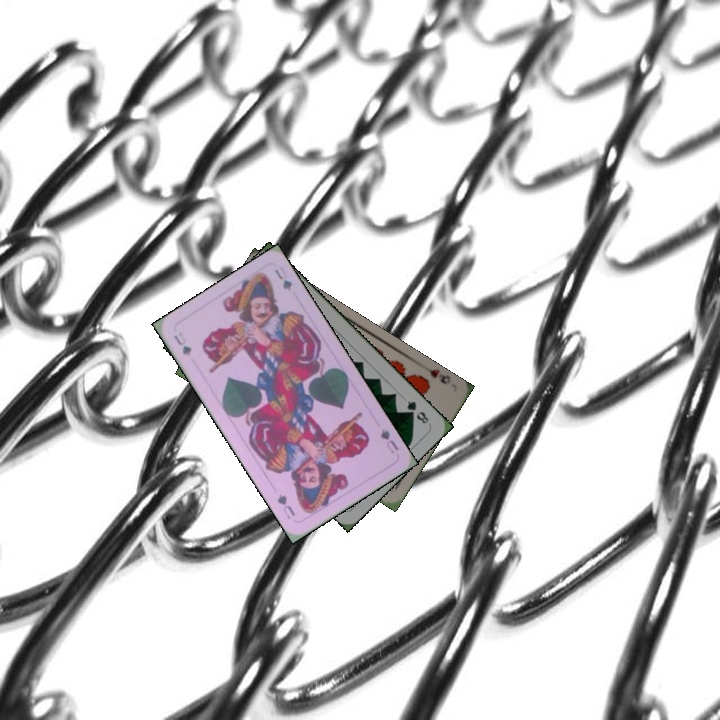G8: (402, 396, 431, 426)
GU: (376, 425, 401, 456), (170, 328, 194, 359)
H9: (419, 363, 452, 387)
